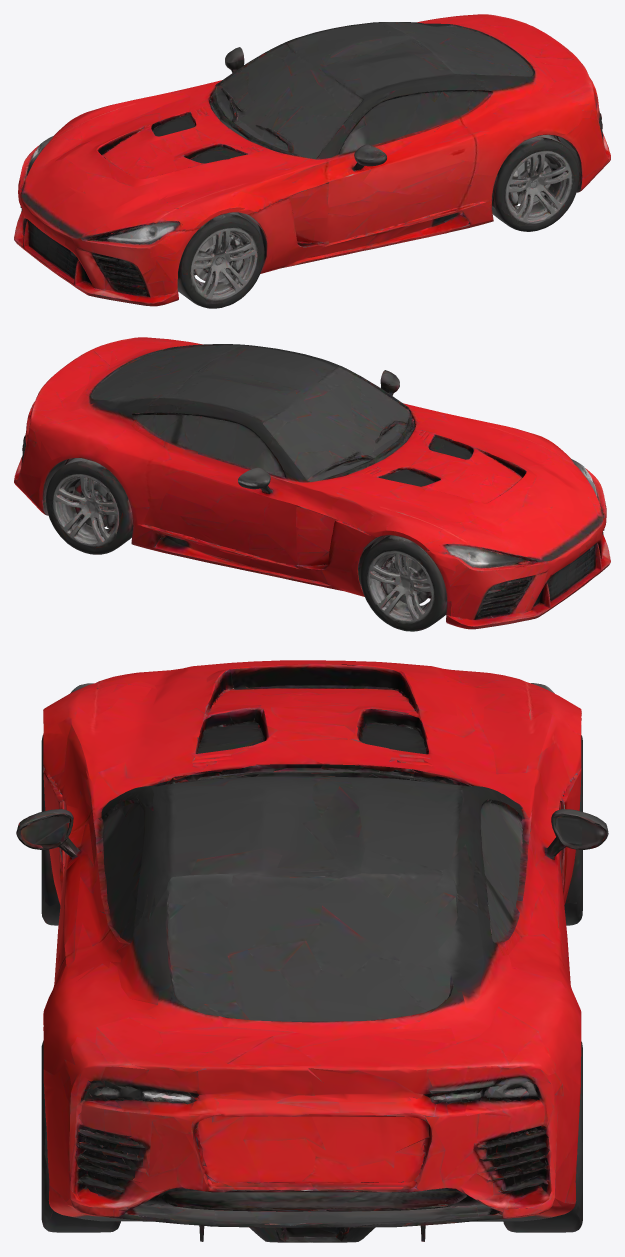
The model's file is showcase-corvette.glb.
3 views of the same model, one above another, from view 1: azimuth 30°, elevation 25°; view 2: azimuth 150°, elevation 25°; view 3: azimuth 270°, elevation 25° (orthographic). The views are drawn at different scales.
Visible parts, largest first — view 1: output_unwrapped; view 2: output_unwrapped; view 3: output_unwrapped.
Part boxes in pixels (bbox=[...]): output_unwrapped: bbox=[14, 14, 610, 308]; output_unwrapped: bbox=[14, 337, 610, 631]; output_unwrapped: bbox=[16, 660, 608, 1242].
Bounding box in the file's own units: 2 × 0.564 × 0.9686.
Materials: 1 (1 with a texture image).
